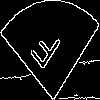F: (24, 25, 63, 79)
